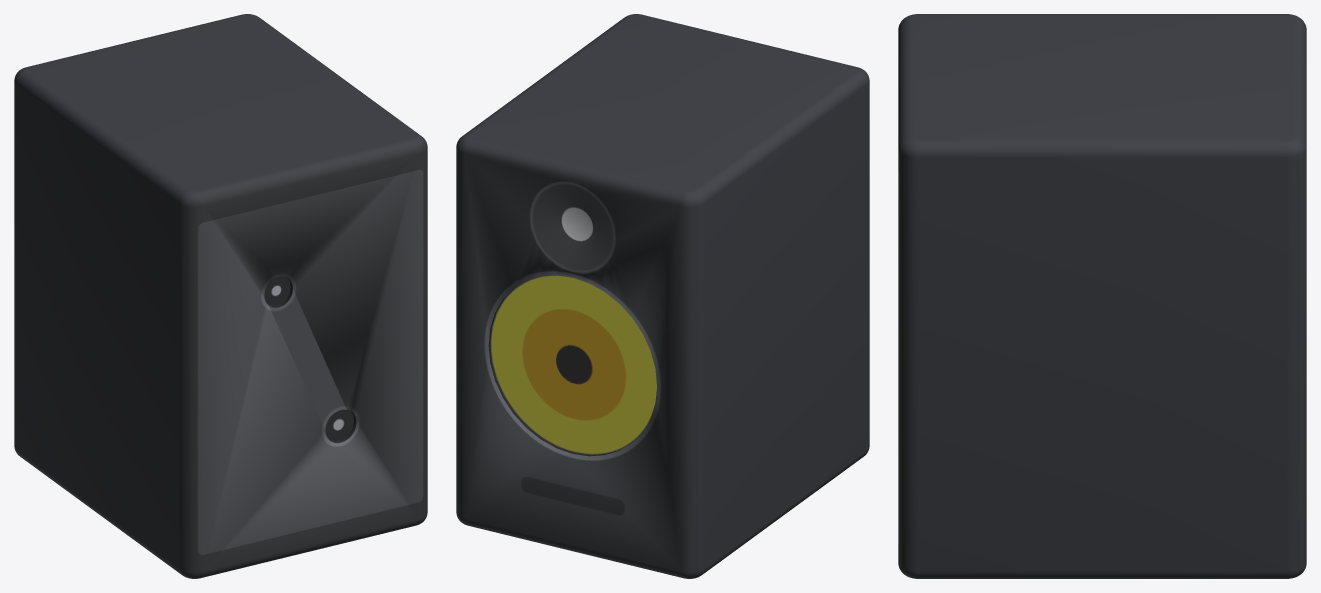
File: krk-rokit-5-g4.glb
3 views of the same model, side by side, from view 1: azimuth 30°, elevation 25°; view 2: azimuth 150°, elevation 25°; view 3: azimuth 270°, elevation 25° (orthographic). The views are drawn at different scales.
Visible parts, largest first — view 1: krk-rokit-5-g4-body; view 2: krk-rokit-5-g4-body; view 3: krk-rokit-5-g4-body.
Part boxes in pixels (x1,y1,x2,y2): krk-rokit-5-g4-body: (14,14,427,578); krk-rokit-5-g4-body: (456,14,869,578); krk-rokit-5-g4-body: (898,14,1306,578).
Bounding box in the file's own units: 0.19 × 0.285 × 0.241.
1 material, 1 textured.
